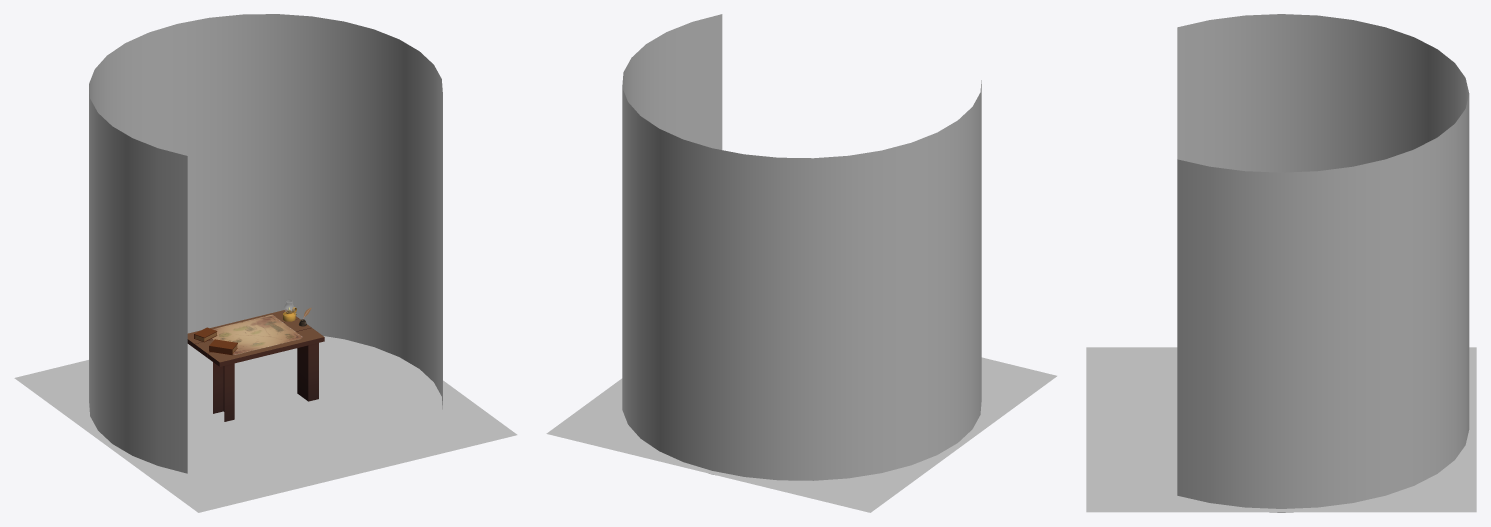
Rendered from OPCIONES.fbx.
3 views of the same model, side by side, from view 1: azimuth 30°, elevation 25°; view 2: azimuth 150°, elevation 25°; view 3: azimuth 270°, elevation 25° (orthographic). The views are drawn at different scales.
Visible parts, largest first — view 1: Cylinder, Plane, Cube.003, Plane.001, NurbsPath.001; view 2: Cylinder, Plane; view 3: Cylinder, Plane.
Boxes of the visible parts, x1=… form: Cylinder: x1=89, y1=14, x2=442, y2=473; Plane: x1=14, y1=336, x2=517, y2=512; Cube.003: x1=187, y1=309, x2=324, y2=421; Plane.001: x1=212, y1=314, x2=302, y2=354; NurbsPath.001: x1=194, y1=300, x2=311, y2=355; Cylinder: x1=622, y1=14, x2=981, y2=480; Plane: x1=546, y1=357, x2=1056, y2=512; Cylinder: x1=1177, y1=14, x2=1469, y2=512; Plane: x1=1086, y1=347, x2=1476, y2=512.
Size of the model in its own units: 3150 by 3030 by 3150.
